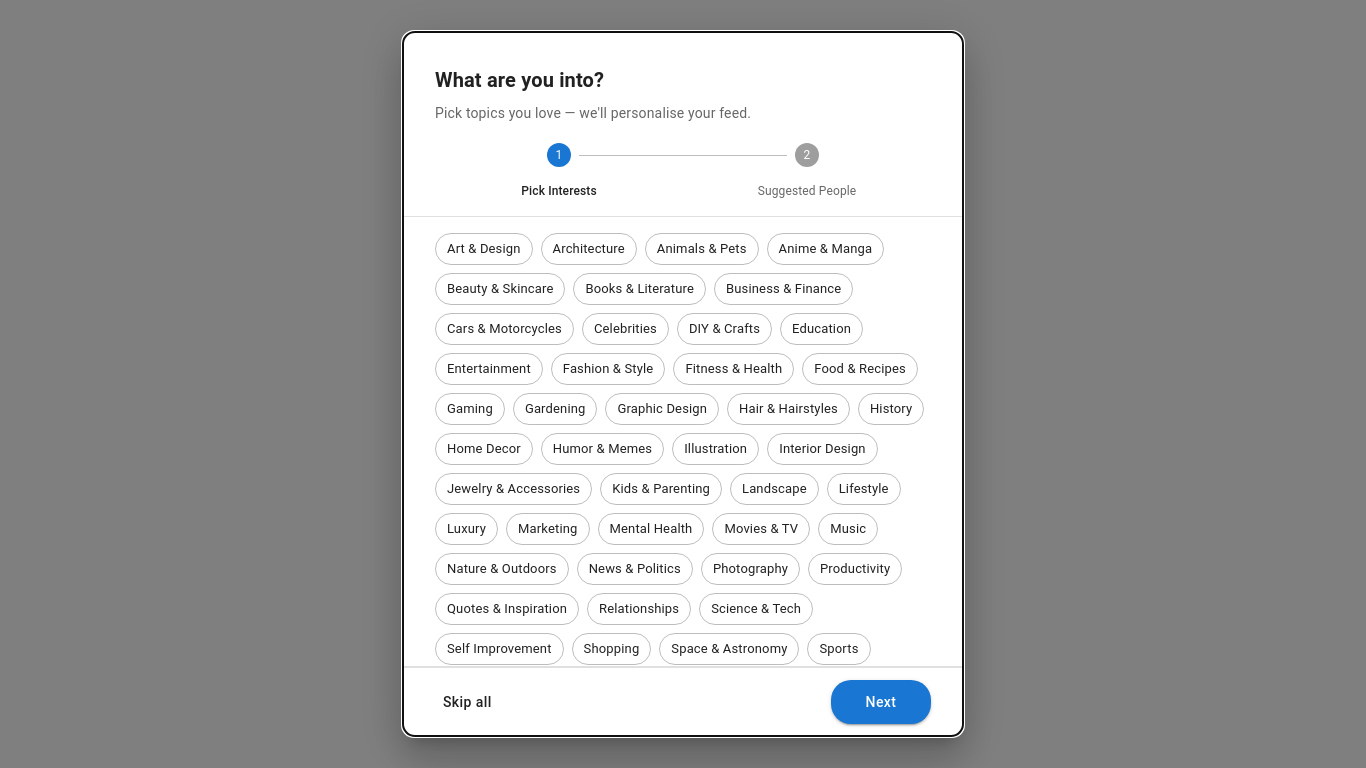
Test: OnboardingWizard › navigates Next from step 1 to step 2
Click the button "Next": [881, 702] box x1=831 y1=680 x2=931 y2=724
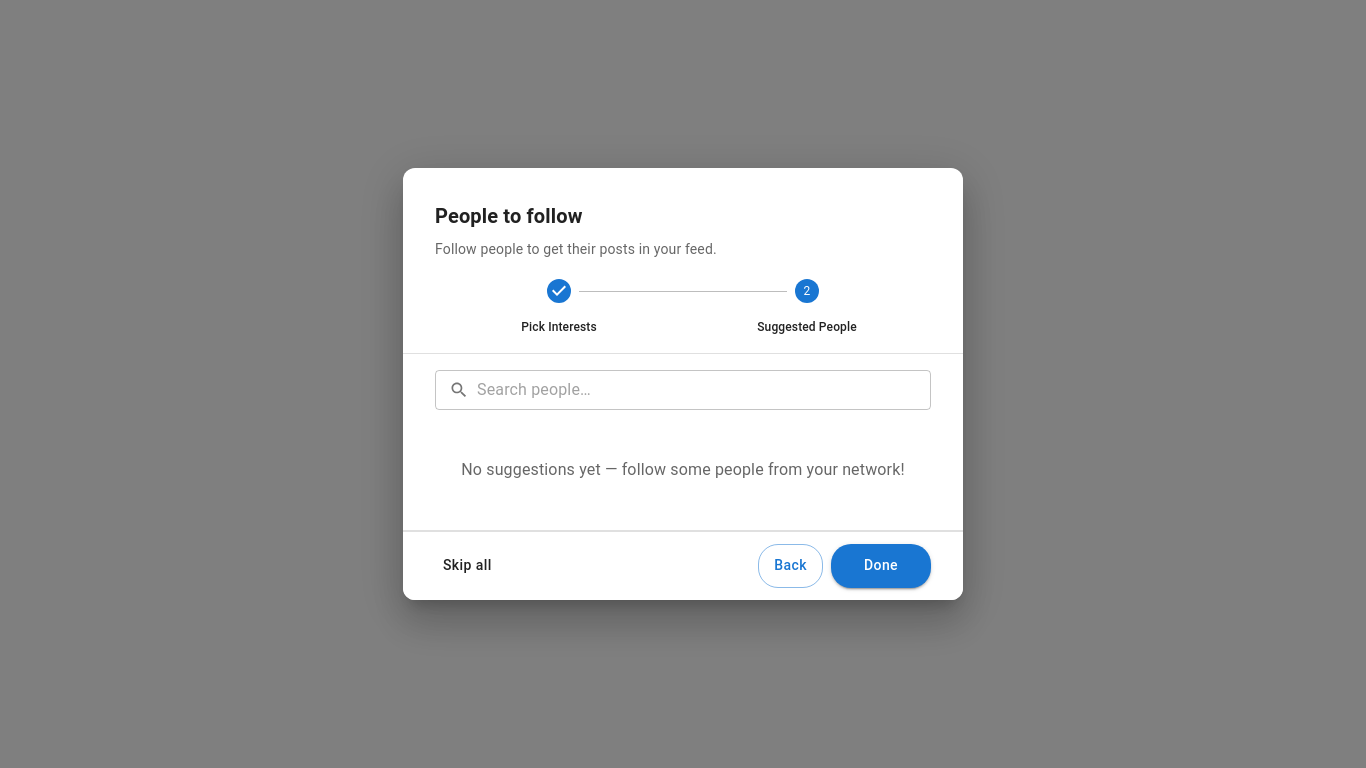
Expected: the heading "People to follow" is shown, x1=435 y1=204 x2=582 y2=228
